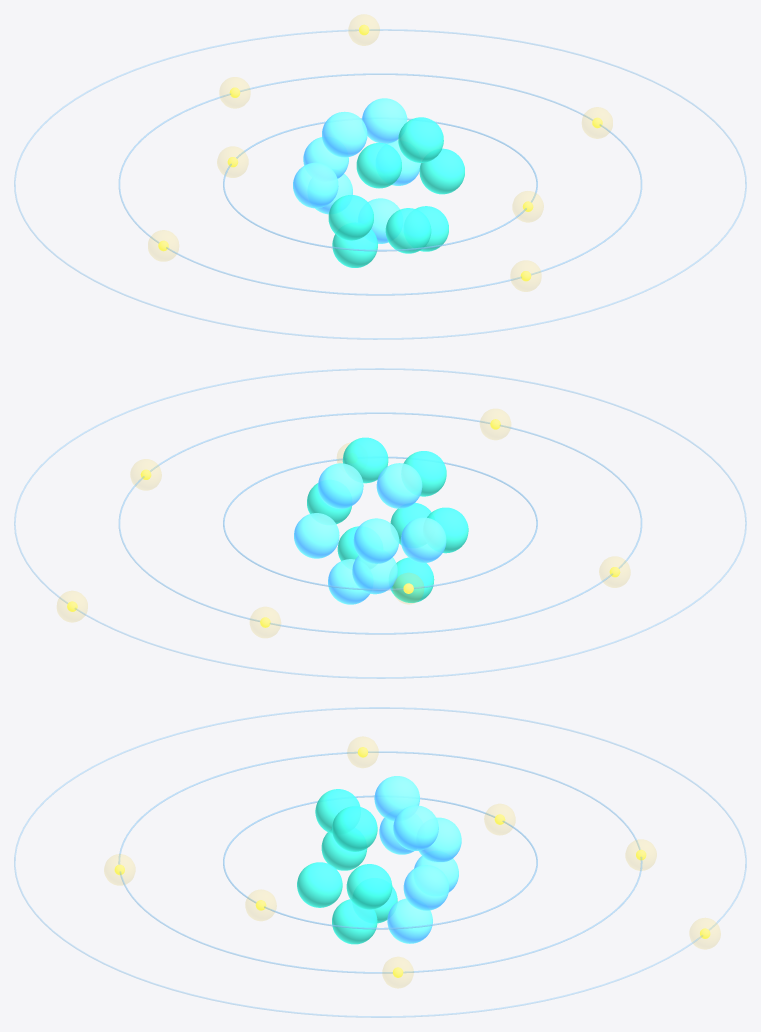
Rendered from uuon-bohr-mopdel(1).glb.
3 views of the same model, one above another, from view 1: azimuth 30°, elevation 25°; view 2: azimuth 150°, elevation 25°; view 3: azimuth 270°, elevation 25° (orthographic).
Parts seen in each view (by area): view 1: daa102be-f30b-44d6-b8ac-c6524e514f23, b0da4f9f-4d30-456b-91f9-147ddb6e5d78, ed6addb0-d8dd-496f-a914-b4ea8d4d0843, a49bc651-3a8f-4b58-96c6-ec225b51c0d4, 742afded-095d-46fb-b3b1-44ac46c37df4, 29d32b6f-e663-4f64-bc6d-f3f5c49f7873, 8bb683d2-b338-4e63-9345-2a7b0268b319, e9e46d4d-5be2-43b9-93f7-363e5f3c7db7, f72042d1-86a5-4a2b-b563-56206b90613e, 5cf11a7b-d17c-48ac-ba7a-97ca588b03ca, 31aadd61-0cec-4cc2-8f8e-3aab139adb63, bb609db5-0963-4ceb-8dac-0178918c05da (+11 smaller); view 2: daa102be-f30b-44d6-b8ac-c6524e514f23, b0da4f9f-4d30-456b-91f9-147ddb6e5d78, 8bb683d2-b338-4e63-9345-2a7b0268b319, 31c71883-1c0c-4d12-9e09-243e4f78af0b, f72042d1-86a5-4a2b-b563-56206b90613e, ed6addb0-d8dd-496f-a914-b4ea8d4d0843, 887dc9d9-36d8-48bd-abda-0012915beb66, 29d32b6f-e663-4f64-bc6d-f3f5c49f7873, 31aadd61-0cec-4cc2-8f8e-3aab139adb63, bb609db5-0963-4ceb-8dac-0178918c05da, 3b4f87a2-ee30-454a-b716-09941b976f53, 742afded-095d-46fb-b3b1-44ac46c37df4 (+10 smaller); view 3: daa102be-f30b-44d6-b8ac-c6524e514f23, b0da4f9f-4d30-456b-91f9-147ddb6e5d78, 887dc9d9-36d8-48bd-abda-0012915beb66, 29d32b6f-e663-4f64-bc6d-f3f5c49f7873, 5cf11a7b-d17c-48ac-ba7a-97ca588b03ca, a49bc651-3a8f-4b58-96c6-ec225b51c0d4, f72042d1-86a5-4a2b-b563-56206b90613e, b46c43bf-c13e-4b5c-88ea-f8e7df676754, f1bb1526-f76f-4a36-a1df-e7e13fb9f448, 8bb683d2-b338-4e63-9345-2a7b0268b319, 31aadd61-0cec-4cc2-8f8e-3aab139adb63, 31c71883-1c0c-4d12-9e09-243e4f78af0b (+11 smaller).
Boxes of the visible parts, x1=… form: daa102be-f30b-44d6-b8ac-c6524e514f23: x1=14, y1=29, x2=746, y2=339; b0da4f9f-4d30-456b-91f9-147ddb6e5d78: x1=118, y1=73, x2=642, y2=295; ed6addb0-d8dd-496f-a914-b4ea8d4d0843: x1=293, y1=162, x2=338, y2=208; a49bc651-3a8f-4b58-96c6-ec225b51c0d4: x1=385, y1=208, x2=431, y2=253; 742afded-095d-46fb-b3b1-44ac46c37df4: x1=356, y1=142, x2=401, y2=188; 29d32b6f-e663-4f64-bc6d-f3f5c49f7873: x1=398, y1=117, x2=443, y2=162; 8bb683d2-b338-4e63-9345-2a7b0268b319: x1=322, y1=111, x2=367, y2=157; e9e46d4d-5be2-43b9-93f7-363e5f3c7db7: x1=328, y1=195, x2=373, y2=240; f72042d1-86a5-4a2b-b563-56206b90613e: x1=362, y1=98, x2=407, y2=143; 5cf11a7b-d17c-48ac-ba7a-97ca588b03ca: x1=419, y1=148, x2=464, y2=194; 31aadd61-0cec-4cc2-8f8e-3aab139adb63: x1=223, y1=118, x2=537, y2=251; bb609db5-0963-4ceb-8dac-0178918c05da: x1=332, y1=229, x2=377, y2=267; daa102be-f30b-44d6-b8ac-c6524e514f23: x1=14, y1=368, x2=746, y2=678; b0da4f9f-4d30-456b-91f9-147ddb6e5d78: x1=118, y1=412, x2=642, y2=634; 8bb683d2-b338-4e63-9345-2a7b0268b319: x1=376, y1=463, x2=422, y2=508; 31c71883-1c0c-4d12-9e09-243e4f78af0b: x1=353, y1=518, x2=399, y2=563; f72042d1-86a5-4a2b-b563-56206b90613e: x1=318, y1=463, x2=363, y2=508; ed6addb0-d8dd-496f-a914-b4ea8d4d0843: x1=401, y1=517, x2=446, y2=563; 887dc9d9-36d8-48bd-abda-0012915beb66: x1=294, y1=513, x2=339, y2=558; 29d32b6f-e663-4f64-bc6d-f3f5c49f7873: x1=342, y1=437, x2=388, y2=483; 31aadd61-0cec-4cc2-8f8e-3aab139adb63: x1=223, y1=456, x2=537, y2=590; bb609db5-0963-4ceb-8dac-0178918c05da: x1=390, y1=557, x2=434, y2=602; 3b4f87a2-ee30-454a-b716-09941b976f53: x1=352, y1=555, x2=397, y2=594; 742afded-095d-46fb-b3b1-44ac46c37df4: x1=403, y1=451, x2=446, y2=496; daa102be-f30b-44d6-b8ac-c6524e514f23: x1=14, y1=707, x2=746, y2=1017; b0da4f9f-4d30-456b-91f9-147ddb6e5d78: x1=118, y1=751, x2=642, y2=973; 887dc9d9-36d8-48bd-abda-0012915beb66: x1=403, y1=865, x2=449, y2=910; 29d32b6f-e663-4f64-bc6d-f3f5c49f7873: x1=332, y1=806, x2=377, y2=851; 5cf11a7b-d17c-48ac-ba7a-97ca588b03ca: x1=346, y1=864, x2=392, y2=909; a49bc651-3a8f-4b58-96c6-ec225b51c0d4: x1=297, y1=862, x2=342, y2=907; f72042d1-86a5-4a2b-b563-56206b90613e: x1=393, y1=805, x2=438, y2=850; b46c43bf-c13e-4b5c-88ea-f8e7df676754: x1=332, y1=899, x2=377, y2=944; f1bb1526-f76f-4a36-a1df-e7e13fb9f448: x1=387, y1=898, x2=432, y2=943; 8bb683d2-b338-4e63-9345-2a7b0268b319: x1=374, y1=776, x2=419, y2=821; 31aadd61-0cec-4cc2-8f8e-3aab139adb63: x1=223, y1=795, x2=537, y2=929; 31c71883-1c0c-4d12-9e09-243e4f78af0b: x1=419, y1=817, x2=461, y2=861.
Size of the model in its own units: 16.84 by 3.64 by 16.84.
